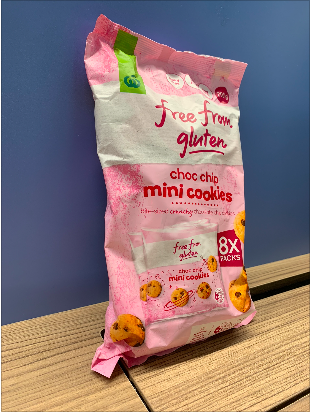Cookies_200-299g: (106, 70, 248, 339)
